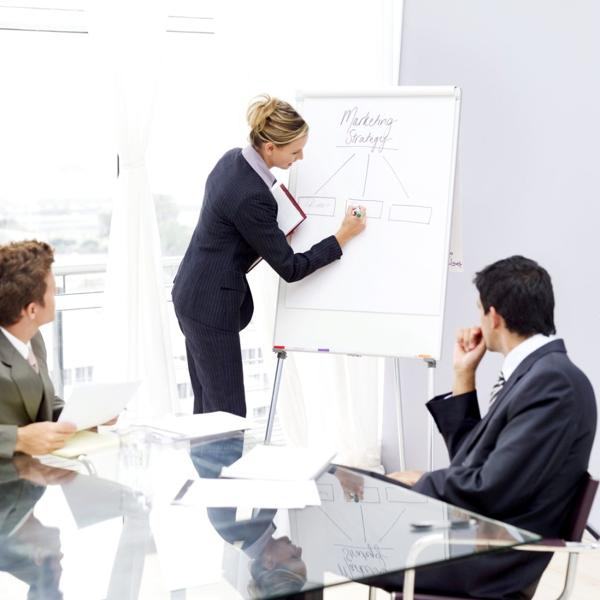person: (172, 94, 369, 420)
